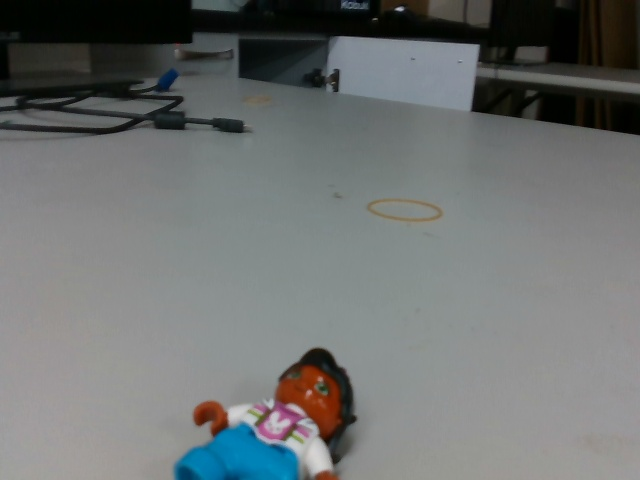people: (168, 344, 364, 480)
